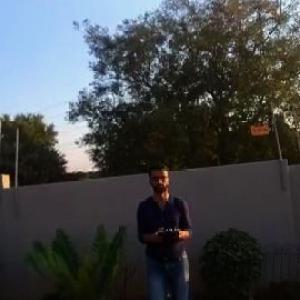follow: (133, 153, 198, 299)
